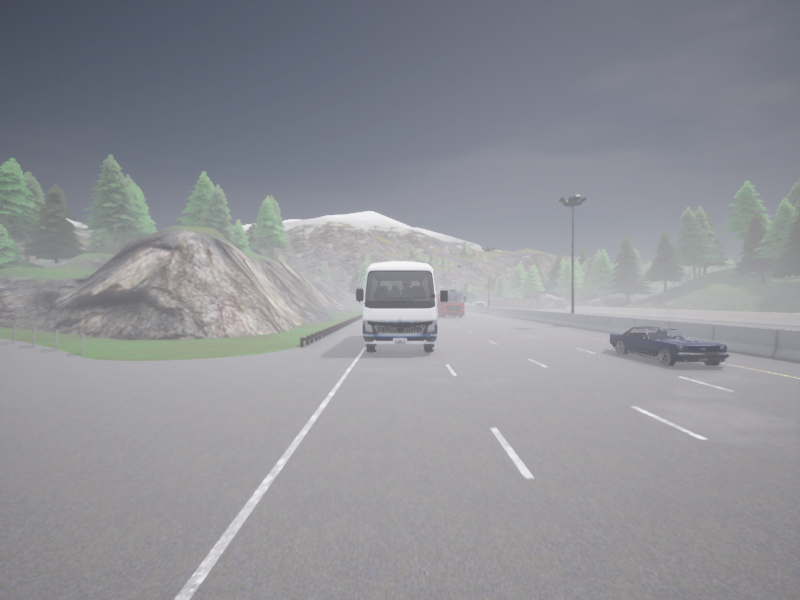vehicle: (356, 261, 447, 352), (609, 326, 728, 365), (437, 289, 465, 317), (475, 301, 483, 305), (469, 302, 473, 303)
